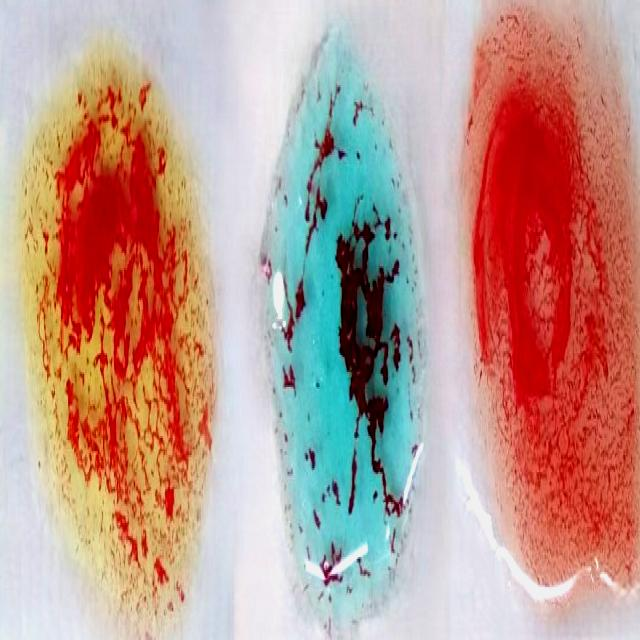A: (267, 35, 423, 610)
B: (31, 47, 208, 630)
D: (461, 0, 635, 627)
